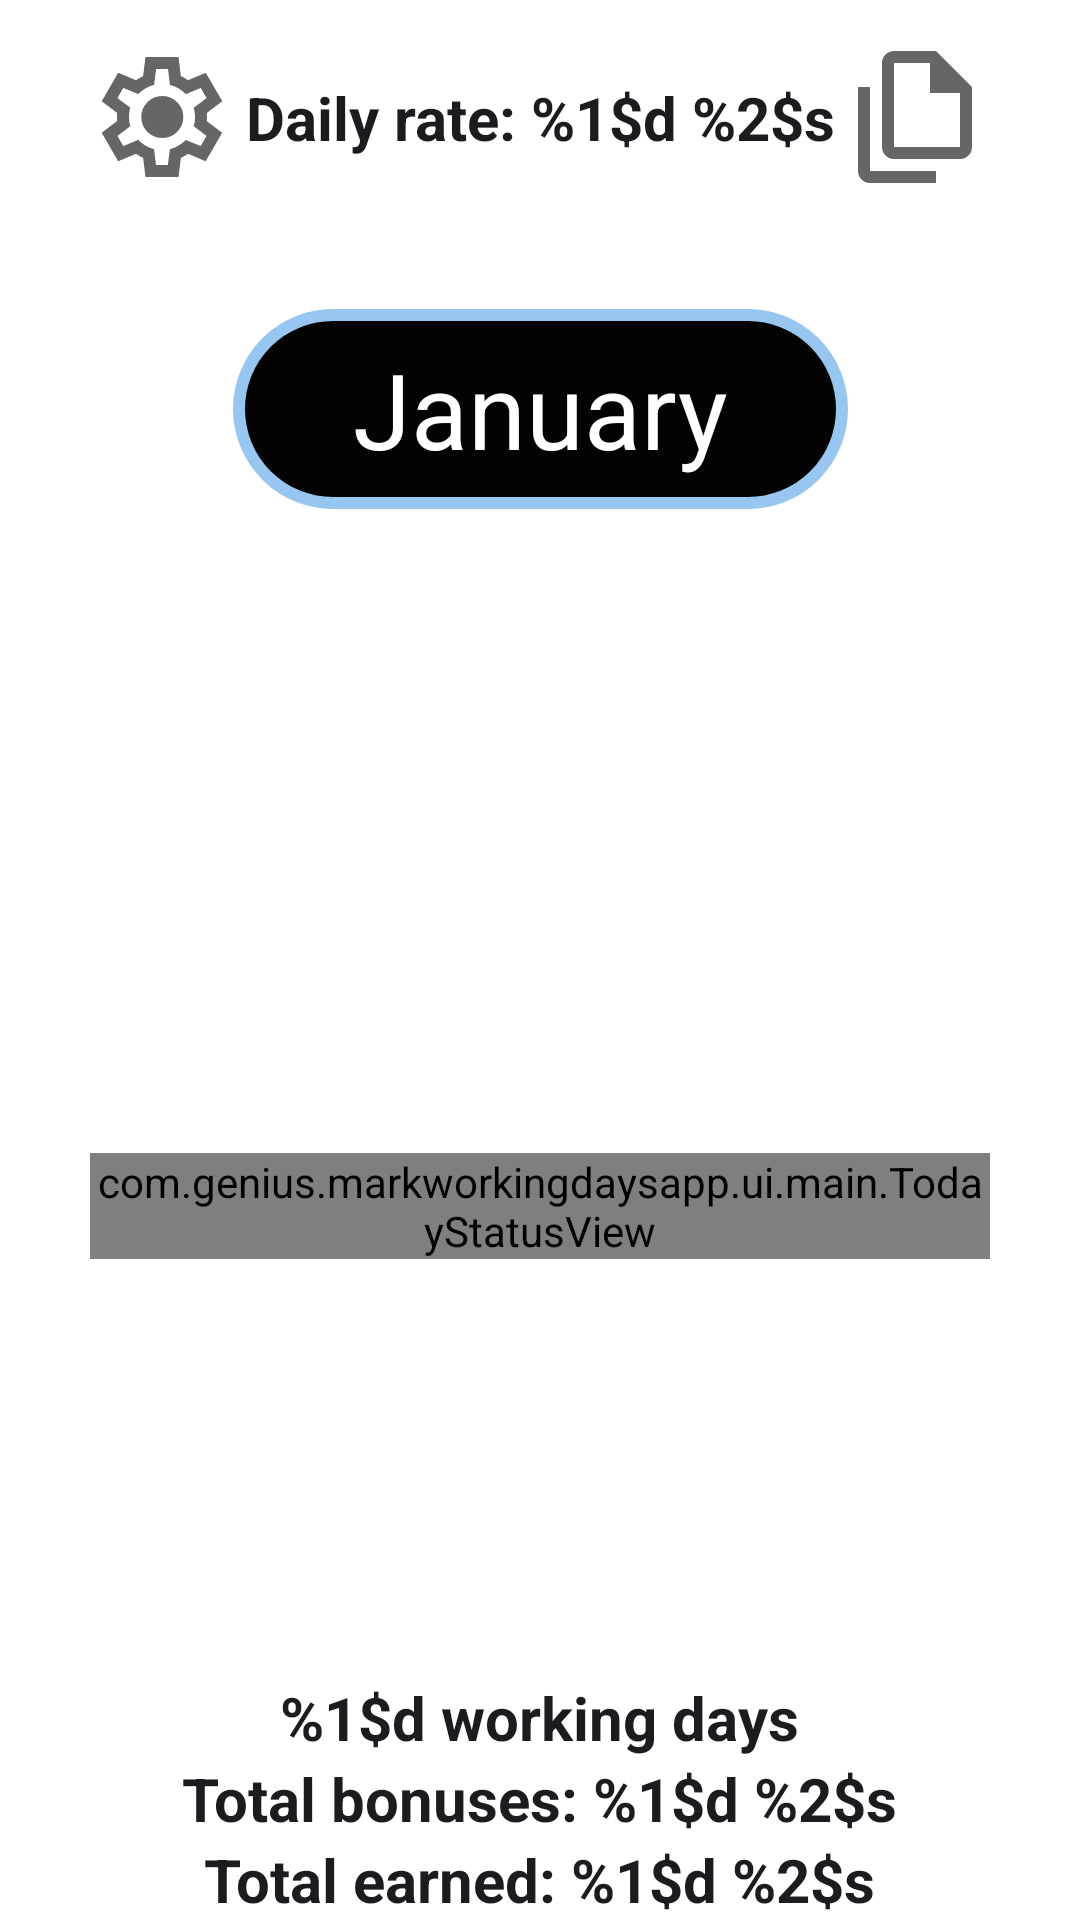

Icons on this 1080 × 1920 Android screen, each with the point to tap as (x=x, y=y):
Copy list: (x=915, y=117)
Open settings: (x=162, y=117)
